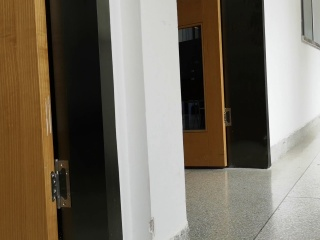room: (5, 4, 122, 240), (173, 1, 276, 170)
